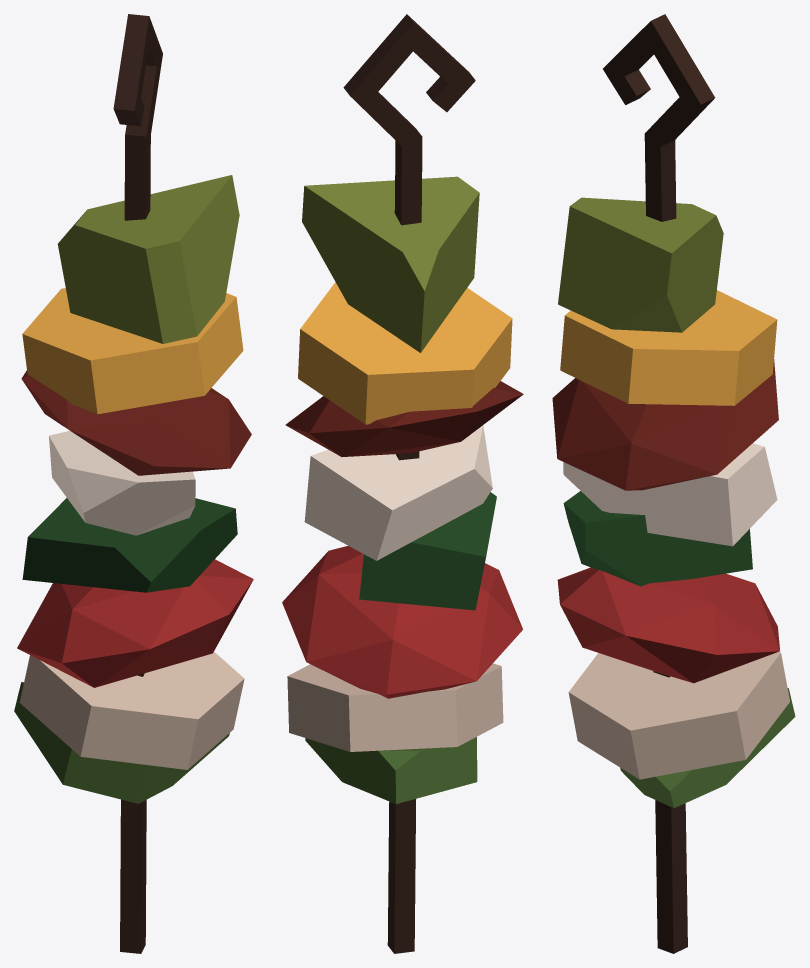
The model's file is skeweredFood.FBX.
3 views of the same model, side by side, from view 1: azimuth 30°, elevation 25°; view 2: azimuth 150°, elevation 25°; view 3: azimuth 270°, elevation 25° (orthographic).
Parts seen in each view (by area): view 1: skeweredFood; view 2: skeweredFood; view 3: skeweredFood.
Boxes of the visible parts, <box> form: skeweredFood: <box>14,14,253,953</box>; skeweredFood: <box>282,14,523,953</box>; skeweredFood: <box>552,14,795,953</box>.
Size of the model in its own units: 0.2525 by 1.13 by 0.2668.
